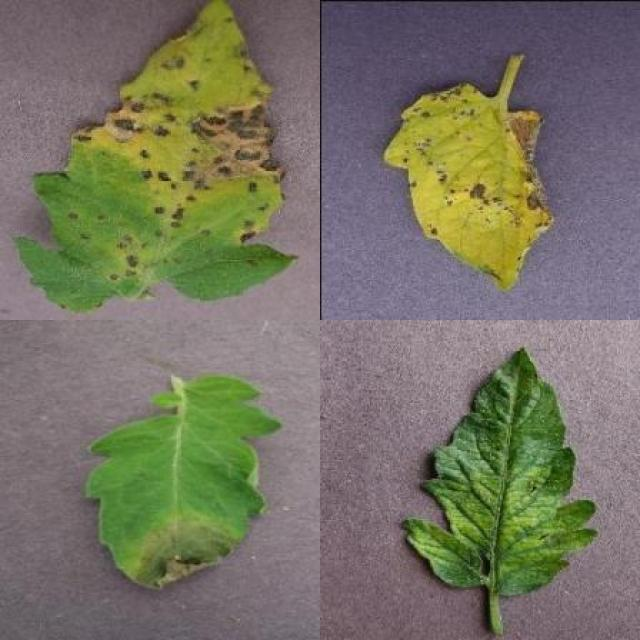Late Blight: (84, 374, 284, 594)
Mosaic Virus: (398, 344, 598, 594)
Septoria: (17, 0, 299, 313), (382, 84, 549, 294)
